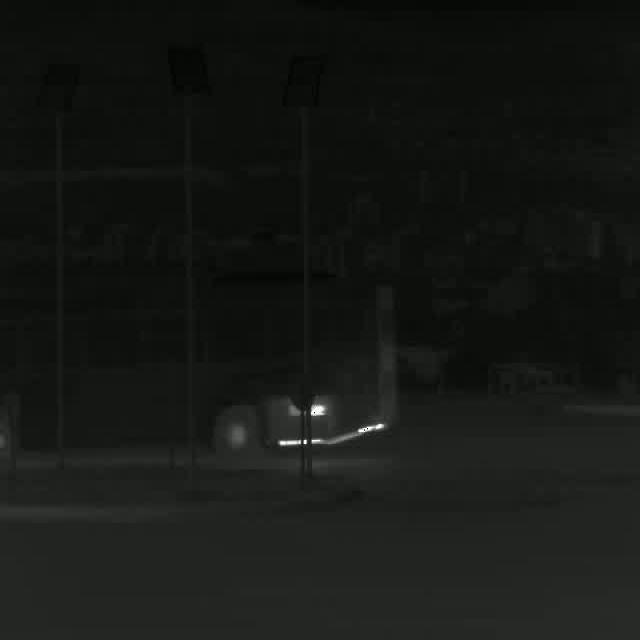Bus: (1, 256, 398, 452)
